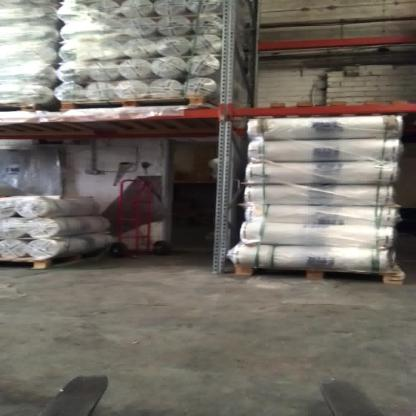vertical_damage: (209, 238, 239, 279)
